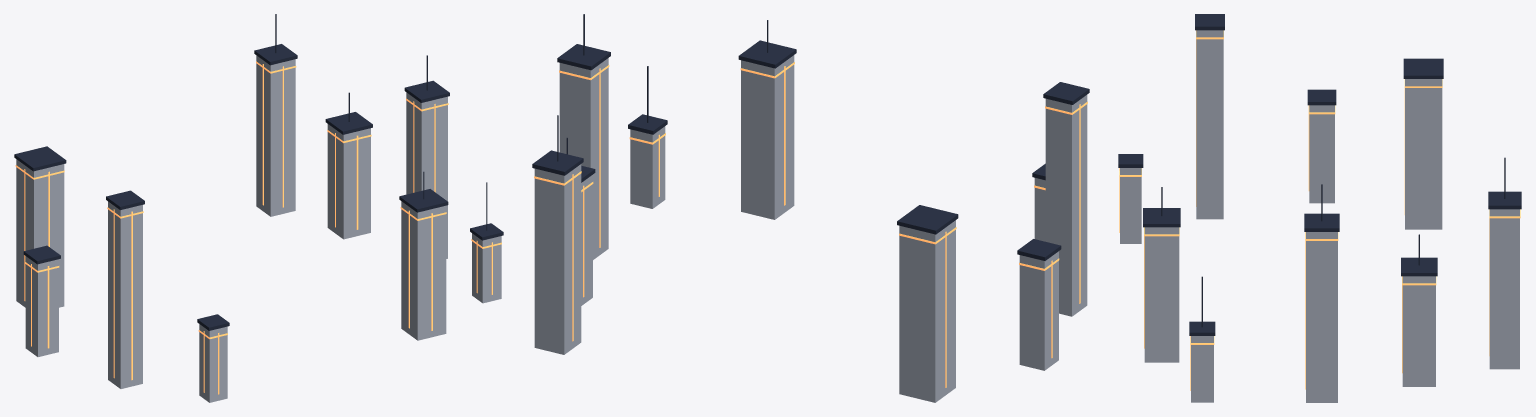
3 renders of one model, left to right at view 1: azimuth 30°, elevation 25°; view 2: azimuth 150°, elevation 25°; view 3: azimuth 270°, elevation 25°, orthographic. The views are drawn at different scales.
Parts seen in each view (by area): view 1: nexo_spires_vertical.lod0; view 2: nexo_spires_vertical.lod0; view 3: nexo_spires_vertical.lod0.
Boxes of the visible parts, x1,y1,x2,y2 form: nexo_spires_vertical.lod0: (14,14,503,402); nexo_spires_vertical.lod0: (532,14,1089,402); nexo_spires_vertical.lod0: (1118,14,1521,402).
Bounding box in the file's own units: 26.37 × 12.3 × 21.24.
